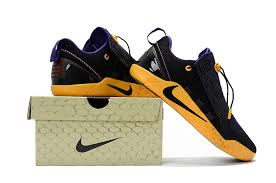nike: (159, 84, 210, 125), (105, 82, 135, 94)
